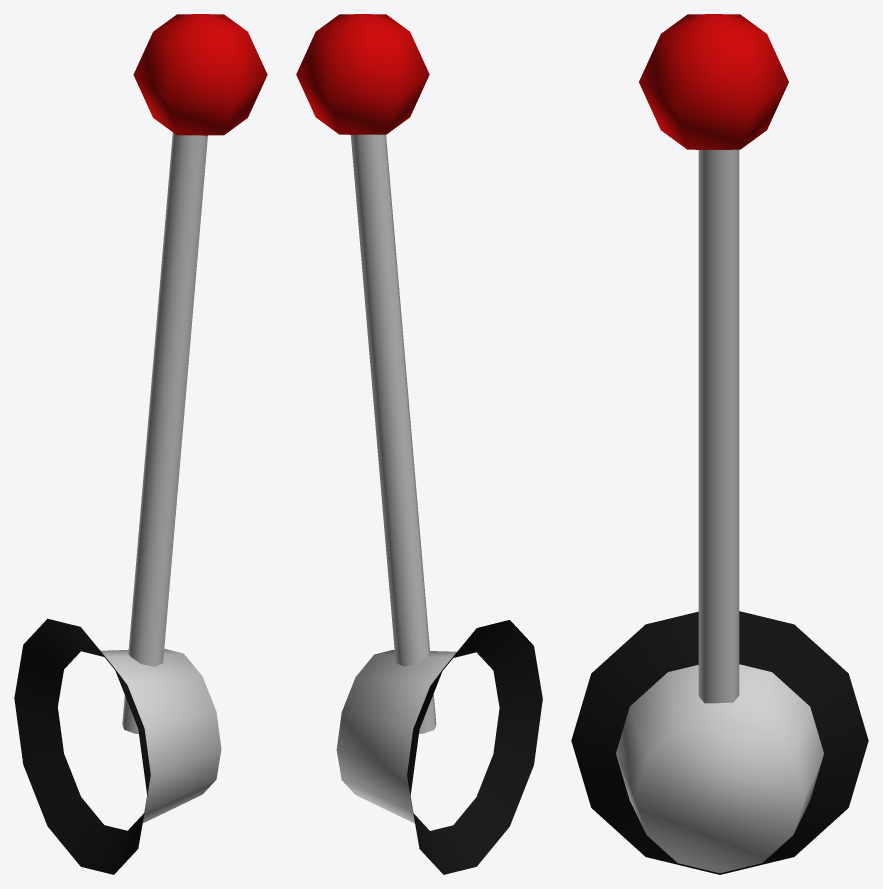
The model's file is slotMachineArmB.gltf.
3 renders of one model, left to right at view 1: azimuth 30°, elevation 25°; view 2: azimuth 150°, elevation 25°; view 3: azimuth 270°, elevation 25°, orthographic. The views are drawn at different scales.
Parts seen in each view (by area): view 1: NewArm; view 2: NewArm; view 3: NewArm.
Boxes of the visible parts, <box> form: NewArm: <box>14,14,267,874</box>; NewArm: <box>296,14,542,874</box>; NewArm: <box>571,14,868,874</box>.
Size of the model in its own units: 0.4175 by 1.97 by 0.5738.
